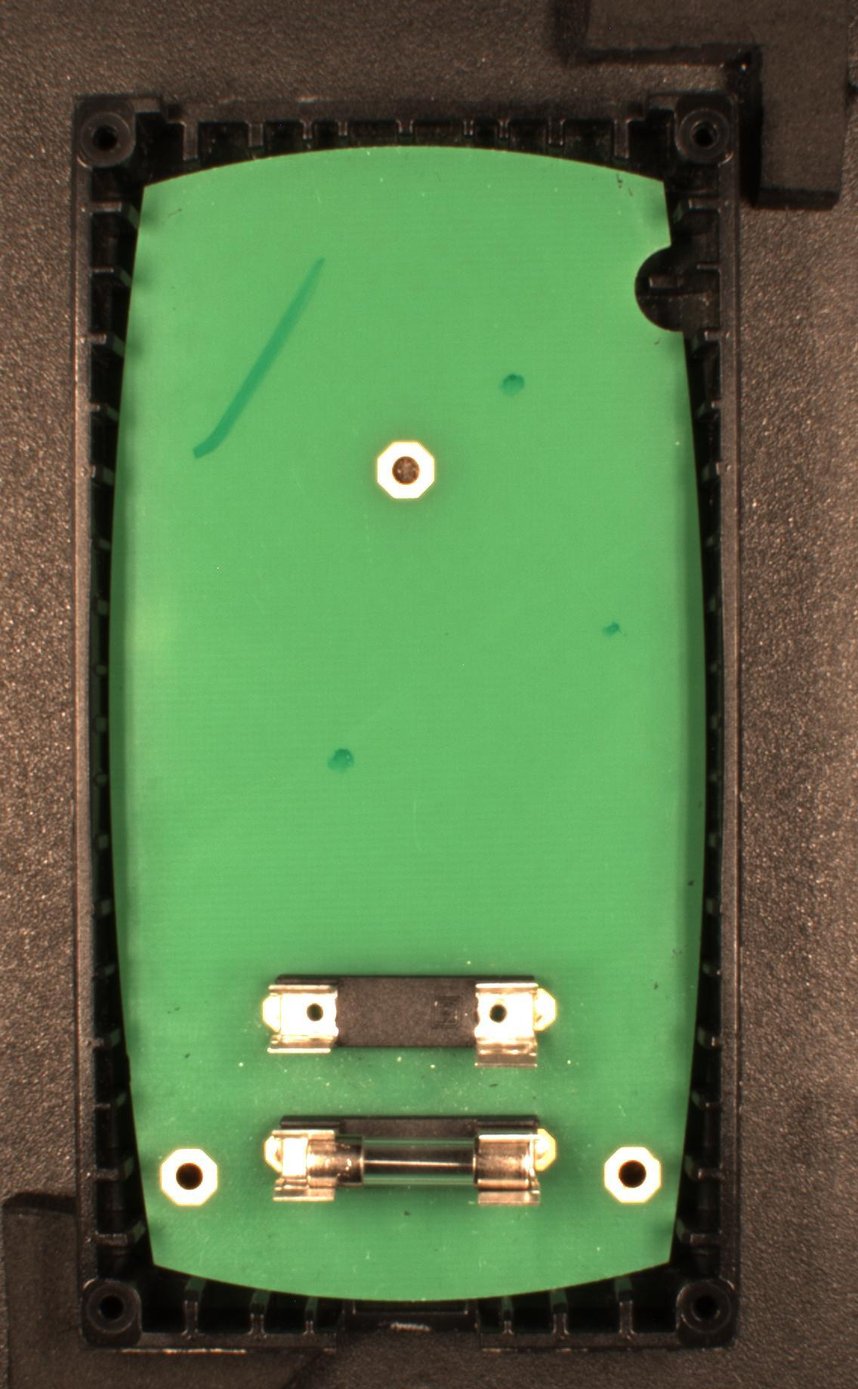Linijsko Ostecene: (192, 256, 327, 462)
Nepostojanje osiguraca: (262, 973, 558, 1069)
Tockasto Ostecenje: (327, 747, 355, 774), (499, 372, 527, 399), (602, 620, 622, 639)
